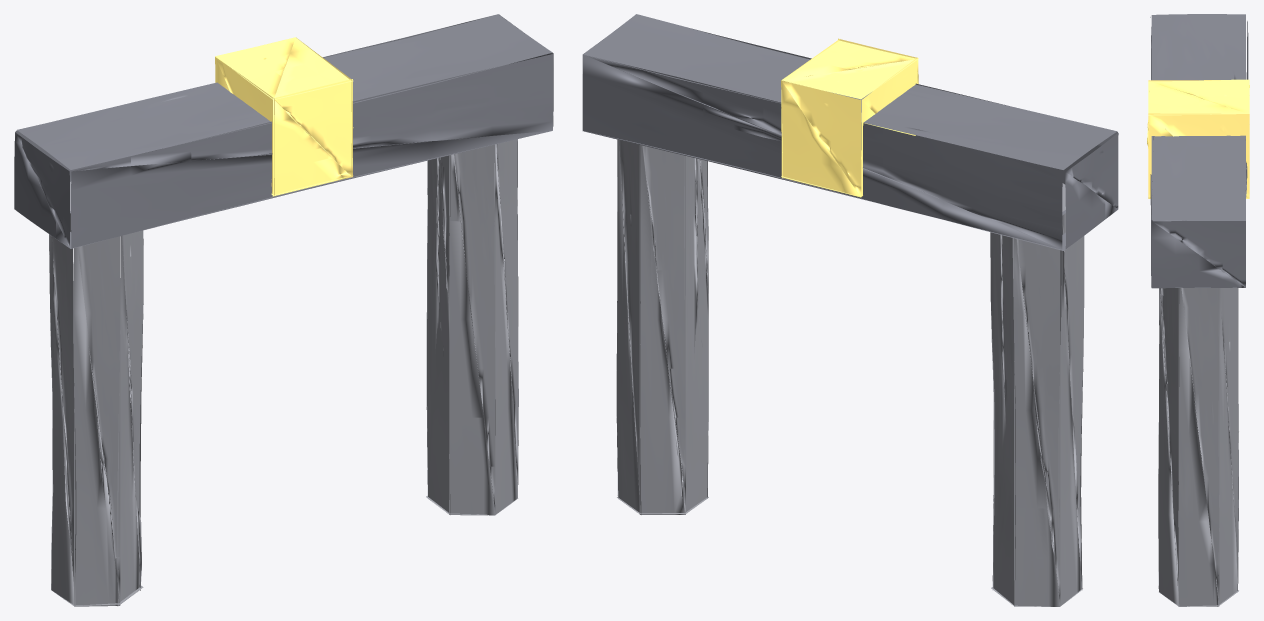
The model's file is dungeon_arch.glb.
3 views of the same model, side by side, from view 1: azimuth 30°, elevation 25°; view 2: azimuth 150°, elevation 25°; view 3: azimuth 270°, elevation 25° (orthographic). The views are drawn at different scales.
Visible parts, largest first — view 1: ArchLeft; view 2: ArchLeft; view 3: ArchLeft.
Boxes of the visible parts, bbox=[...] form: ArchLeft: bbox=[14, 14, 553, 606]; ArchLeft: bbox=[582, 14, 1118, 606]; ArchLeft: bbox=[1147, 14, 1249, 606].
Size of the model in its own units: 3.62 by 3.42 by 0.7634.
